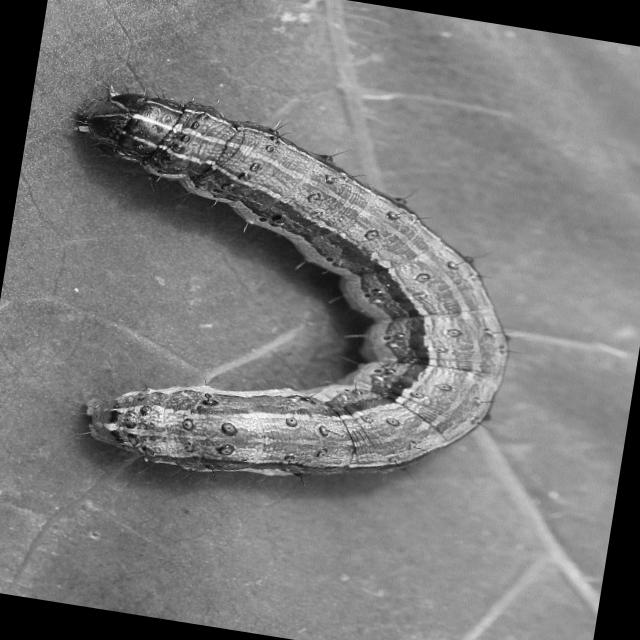Armyworm: (5, 44, 551, 535)
